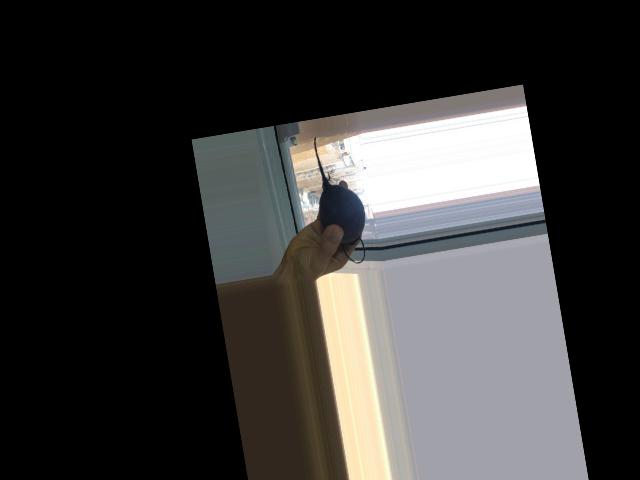beet: (306, 130, 372, 267)
